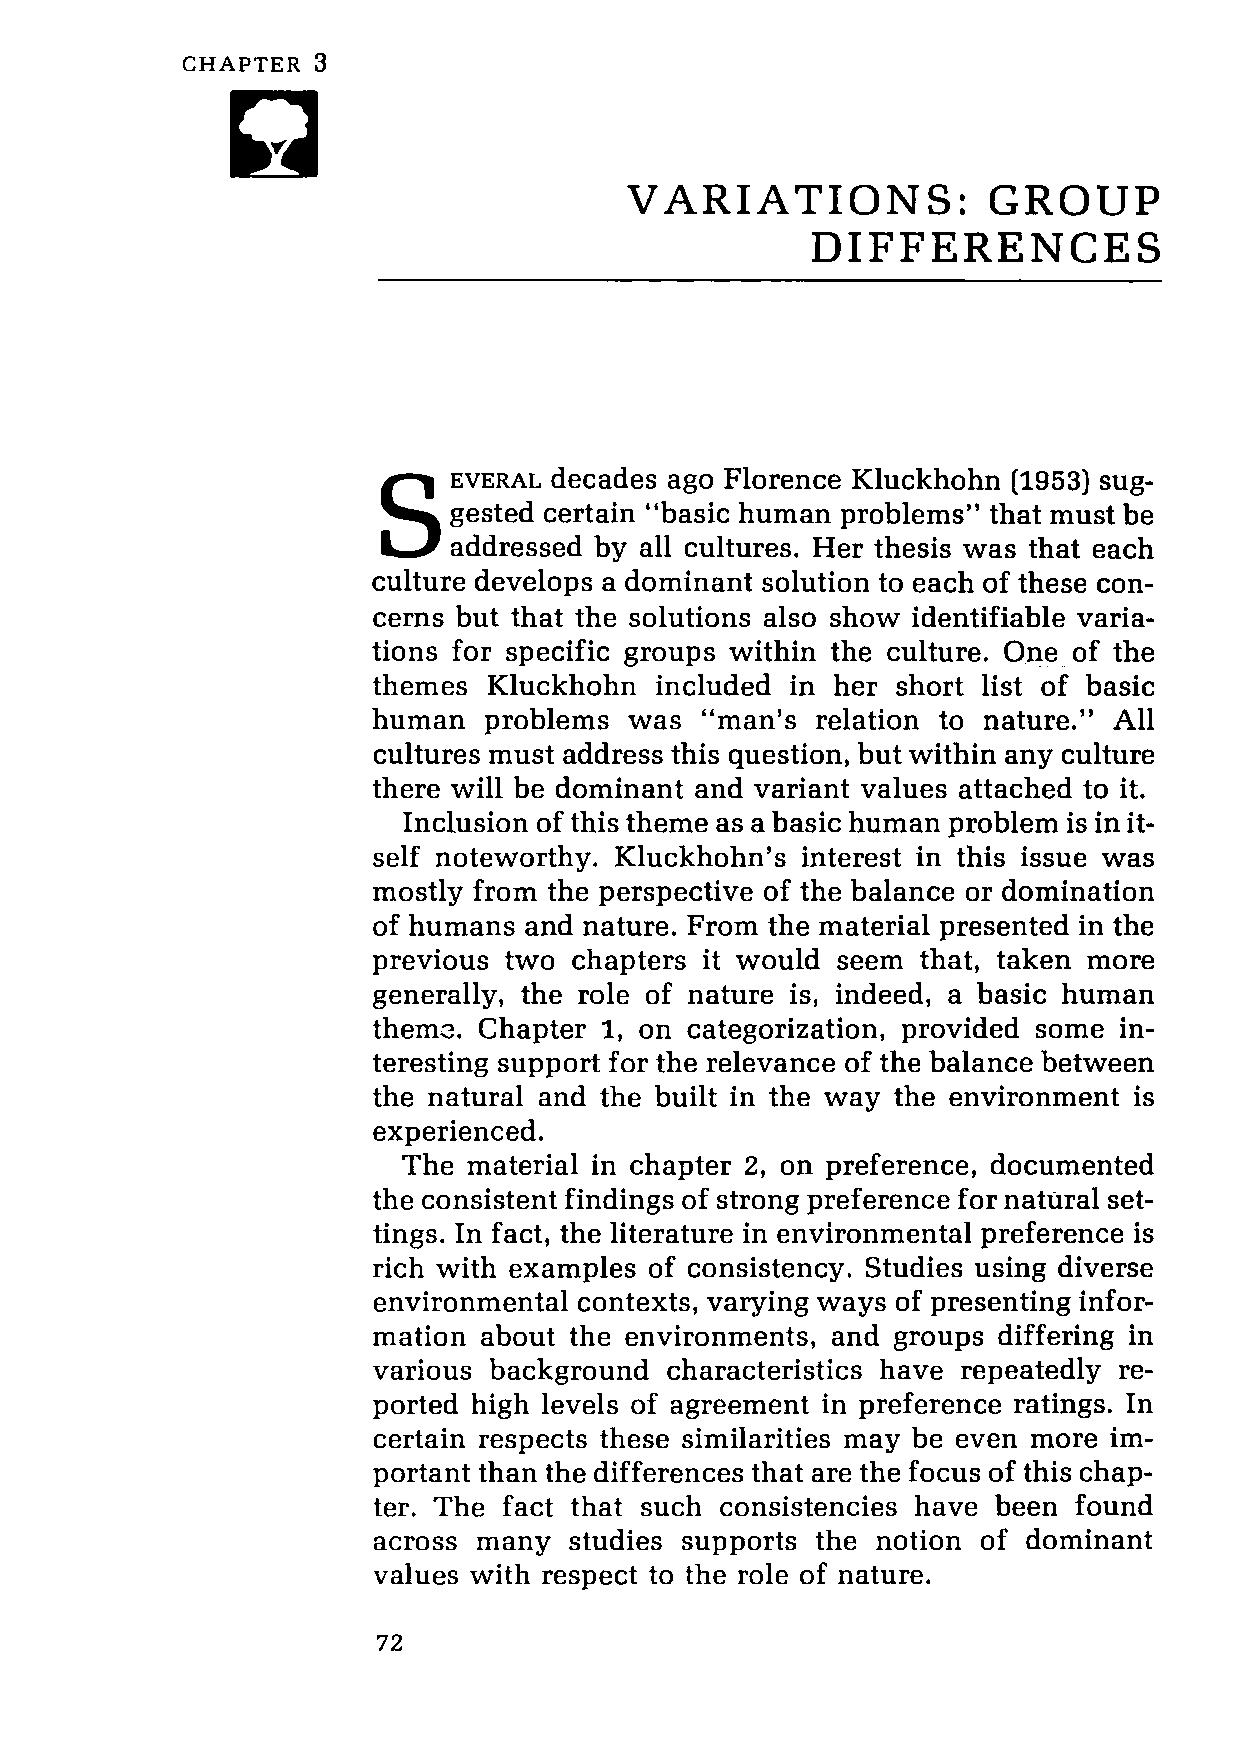chapter: (624, 180, 1159, 266)
content: (368, 467, 1157, 1592)
content_pagenumber: (372, 1632, 404, 1653)
